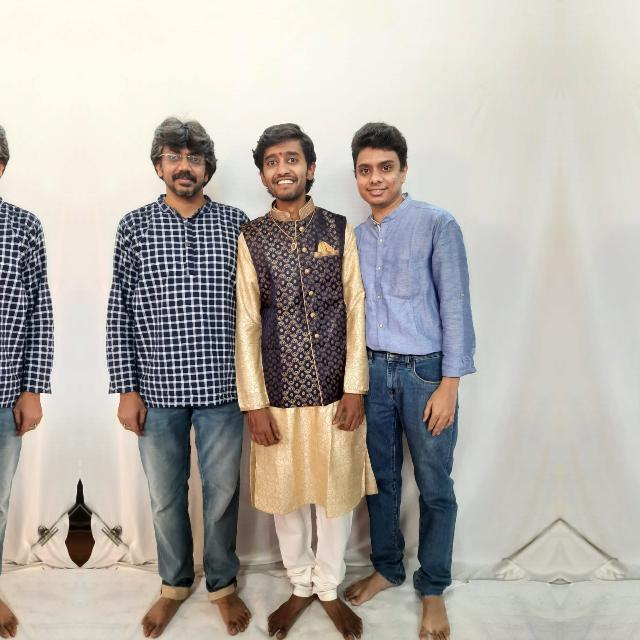person: (227, 120, 369, 604), (346, 118, 478, 632), (130, 110, 254, 640), (0, 110, 30, 639)
